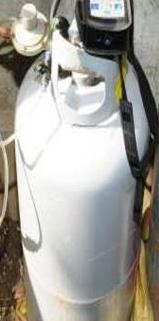cylinder: (1, 0, 159, 321)
